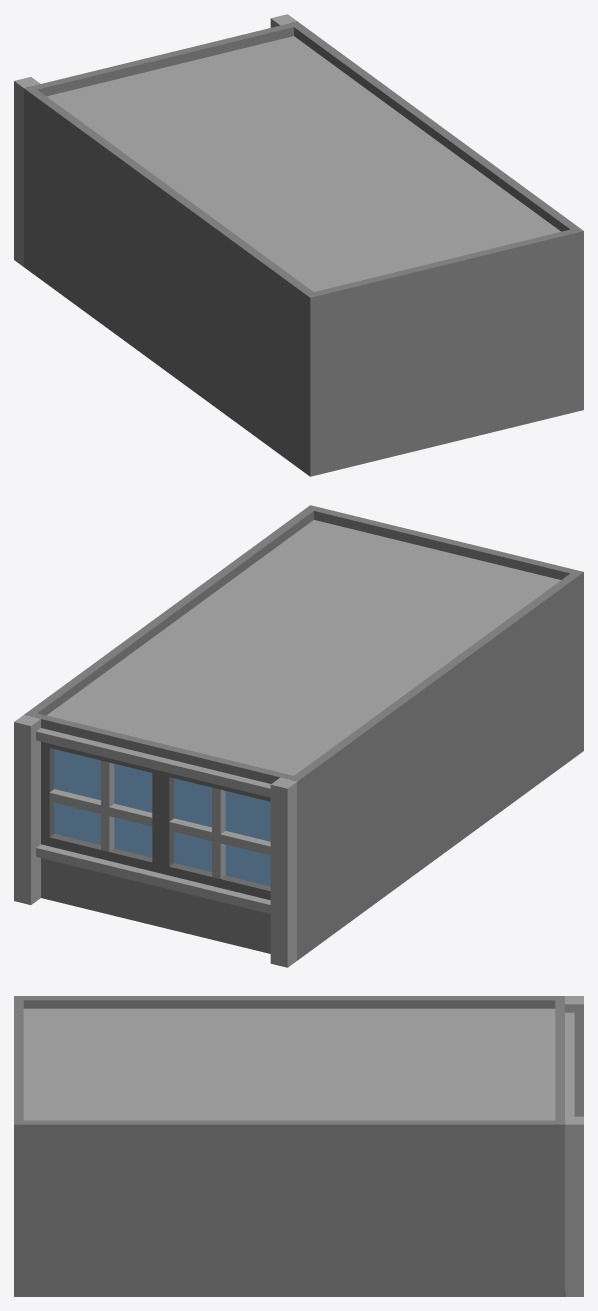
The model's file is obj_story01a.fbx.
The picture shows the model from 3 angles, top to bottom: view 1: azimuth 30°, elevation 25°; view 2: azimuth 150°, elevation 25°; view 3: azimuth 270°, elevation 25°; orthographic projection. The views are drawn at different scales.
Parts seen in each view (by area): view 1: obj_story01a; view 2: obj_story01a; view 3: obj_story01a.
Part boxes in pixels (x1,y1,x2,y2): obj_story01a: (14,14,583,476); obj_story01a: (14,505,583,967); obj_story01a: (14,996,583,1296).
Bounding box in the file's own units: 3.2 × 6 × 2.
1 material, 1 textured.
